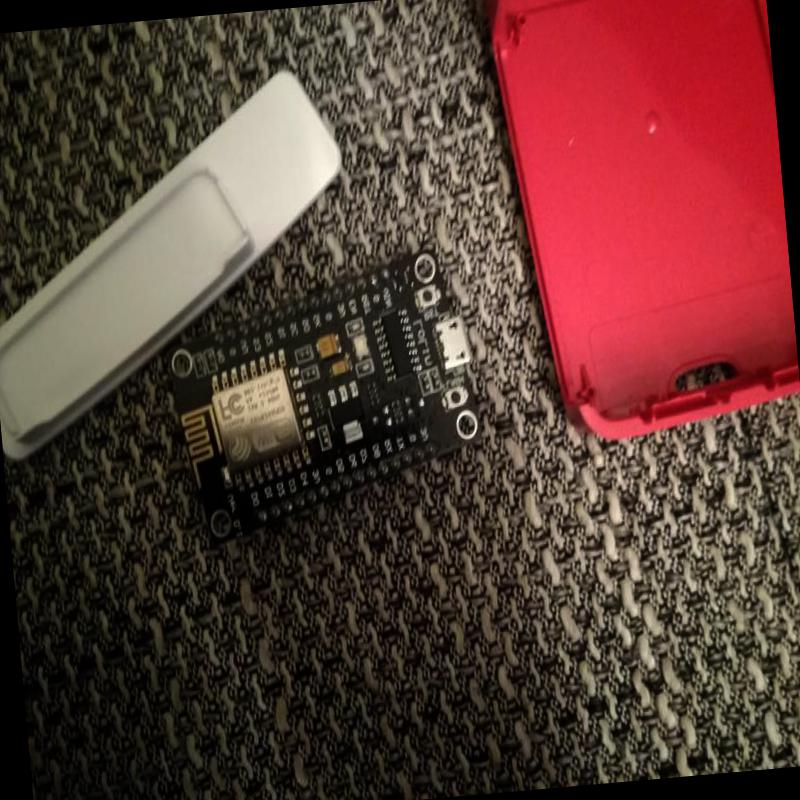ESP8266: (159, 239, 497, 557)
